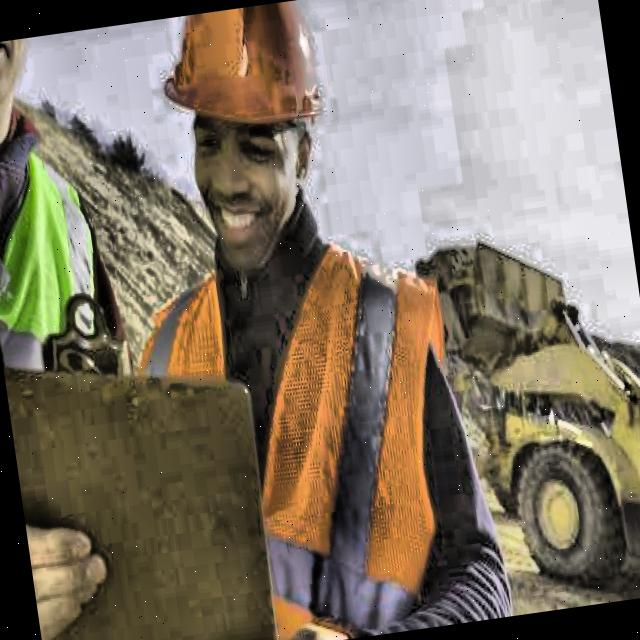helmet: (138, 0, 365, 267)
